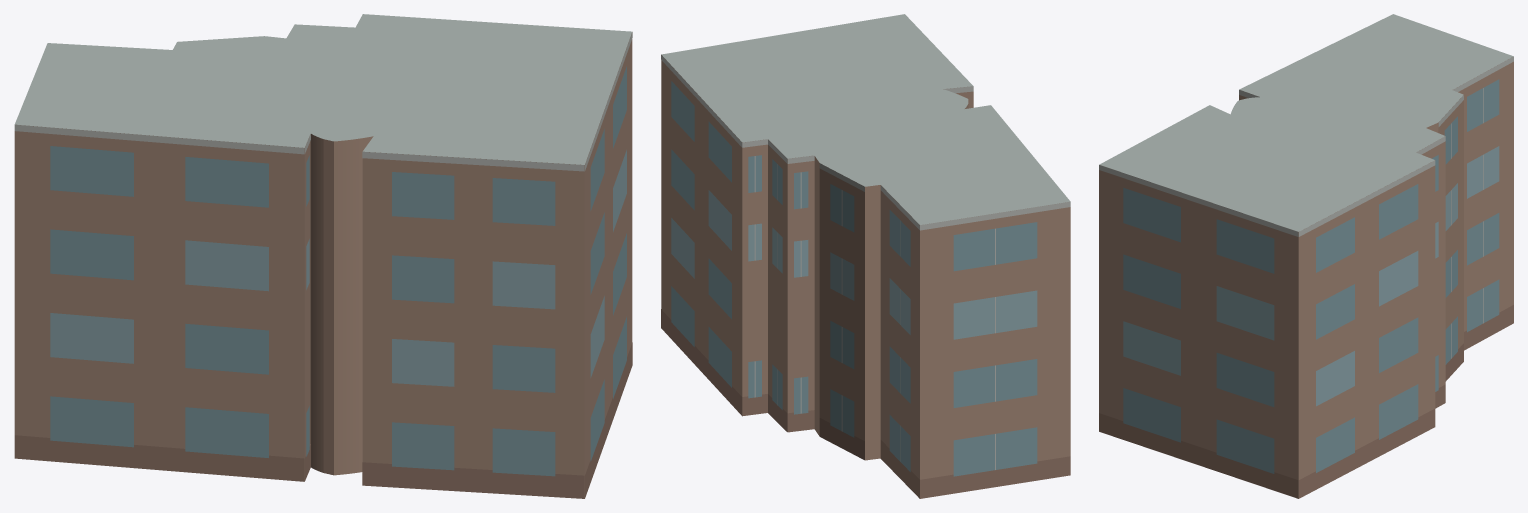
The model's file is survey-upis-32678914.glb.
3 renders of one model, left to right at view 1: azimuth 30°, elevation 25°; view 2: azimuth 150°, elevation 25°; view 3: azimuth 270°, elevation 25°, orthographic. The views are drawn at different scales.
Parts seen in each view (by area): view 1: survey-upis-32678914.tmp; view 2: survey-upis-32678914.tmp; view 3: survey-upis-32678914.tmp.
Boxes of the visible parts, bbox=[...] form: survey-upis-32678914.tmp: bbox=[14, 14, 632, 498]; survey-upis-32678914.tmp: bbox=[661, 14, 1070, 498]; survey-upis-32678914.tmp: bbox=[1099, 14, 1513, 498].
Bounding box in the file's own units: 21.9 × 12.5 × 17.61.
